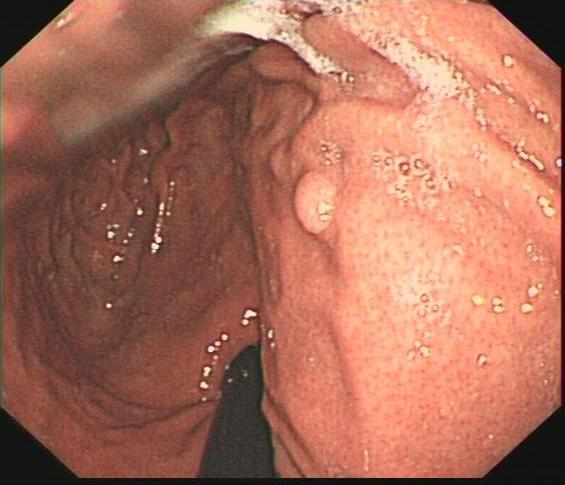Polyp: (275, 151, 350, 256)
